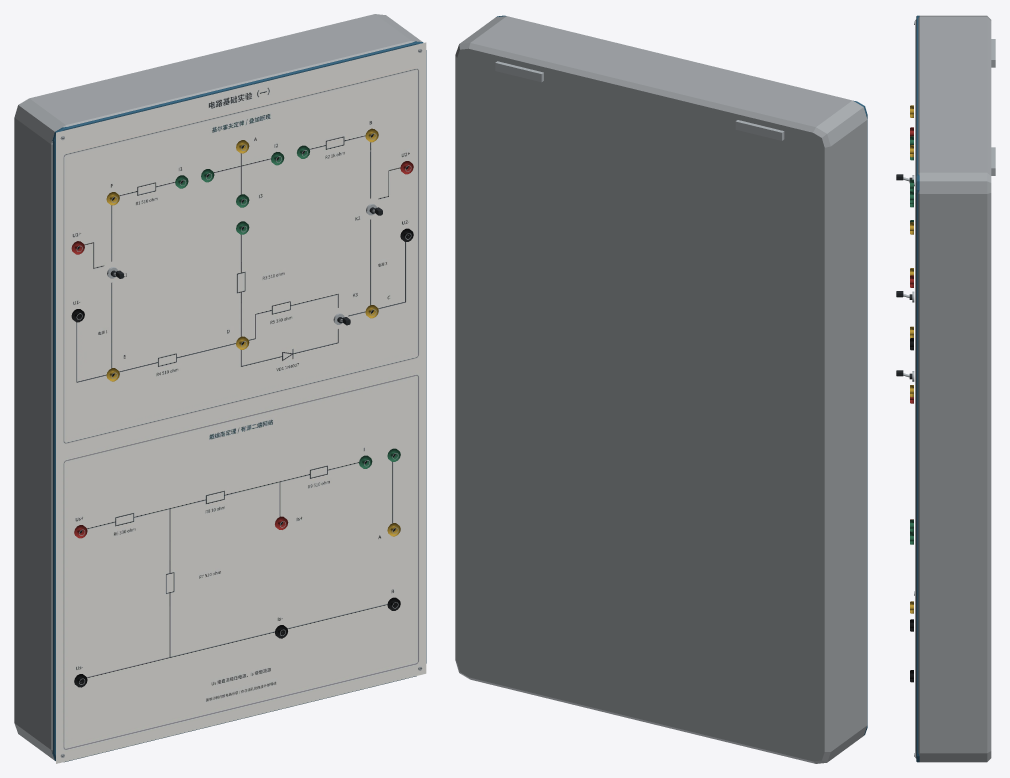
The model's file is module.glb.
The picture shows the model from 3 angles, left to right: view 1: azimuth 30°, elevation 25°; view 2: azimuth 150°, elevation 25°; view 3: azimuth 270°, elevation 25°; orthographic projection. The views are drawn at different scales.
Parts seen in each view (by area): view 1: PANEL_silkscreen, STATIC_paint, STATIC_metal; view 2: STATIC_paint, STATIC_metal; view 3: STATIC_paint, STATIC_metal.
Part boxes in pixels (left/top/right/bottom): PANEL_silkscreen: left=56, top=42, right=426, bottom=763; STATIC_paint: left=14, top=14, right=426, bottom=762; STATIC_metal: left=60, top=48, right=422, bottom=757; STATIC_paint: left=455, top=15, right=867, bottom=763; STATIC_metal: left=495, top=61, right=784, bottom=140; STATIC_paint: left=910, top=15, right=991, bottom=762; STATIC_metal: left=912, top=21, right=995, bottom=756.
Bounding box in the file's own units: 0.29 × 0.47 × 0.0718.
Materials: 6 (1 with a texture image).
